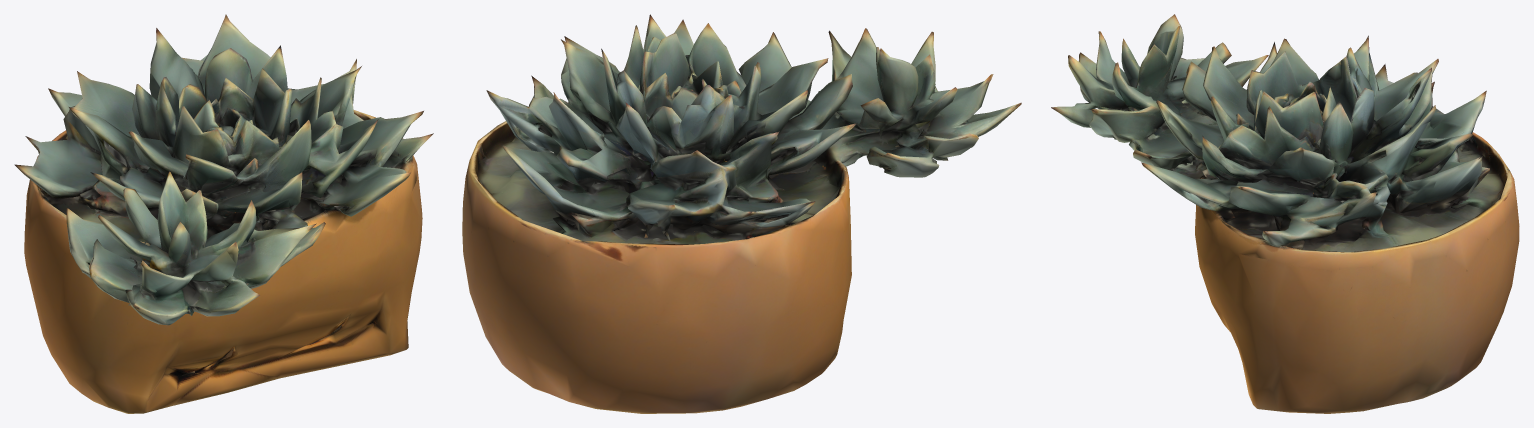
File: agave.glb
3 renders of one model, left to right at view 1: azimuth 30°, elevation 25°; view 2: azimuth 150°, elevation 25°; view 3: azimuth 270°, elevation 25°, orthographic. The views are drawn at different scales.
Bounding box in the file's own units: 1.86 × 1.3 × 2.
Materials: 1 (1 with a texture image).
